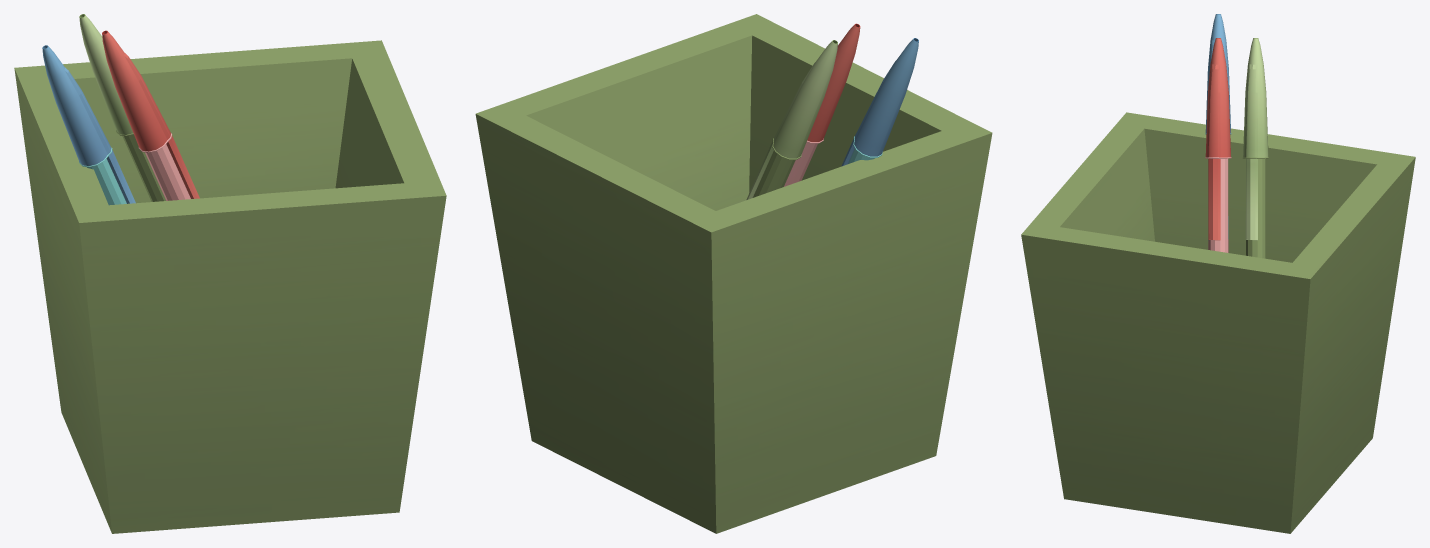
Rendered from Desk_PenPot.FBX.
The picture shows the model from 3 angles, left to right: view 1: azimuth 30°, elevation 25°; view 2: azimuth 150°, elevation 25°; view 3: azimuth 270°, elevation 25°; orthographic projection. The views are drawn at different scales.
Parts seen in each view (by area): view 1: PenPot_square, Pen_top_Red, Pen_top_Blue, Pen_top_Green, Pen_body_Red, Pen_body_Green, Pen_body_Blue; view 2: PenPot_square, Pen_top_Green, Pen_top_Blue, Pen_top_Red, Pen_body_Green; view 3: PenPot_square, Pen_top_Red, Pen_top_Green, Pen_body_Green, Pen_body_Red, Pen_top_Blue.
Boxes of the visible parts, x1,y1,x2,y2 form: PenPot_square: (14,40,446,533); Pen_top_Red: (102,30,199,198); Pen_top_Blue: (42,45,135,203); Pen_top_Green: (79,14,133,136); Pen_body_Red: (145,144,190,200); Pen_body_Green: (122,134,166,201); Pen_body_Blue: (86,159,126,205); PenPot_square: (475,14,992,533); Pen_top_Green: (746,40,837,199); Pen_top_Blue: (841,38,918,166); Pen_top_Red: (806,23,860,143); Pen_body_Green: (753,151,795,197); PenPot_square: (1021,112,1415,533); Pen_top_Red: (1205,38,1231,240); Pen_top_Green: (1242,38,1268,240); Pen_body_Green: (1246,158,1265,258); Pen_body_Red: (1208,159,1228,252); Pen_top_Blue: (1205,14,1231,134).
Size of the model in its own units: 5.16 by 5.53 by 5.16.
